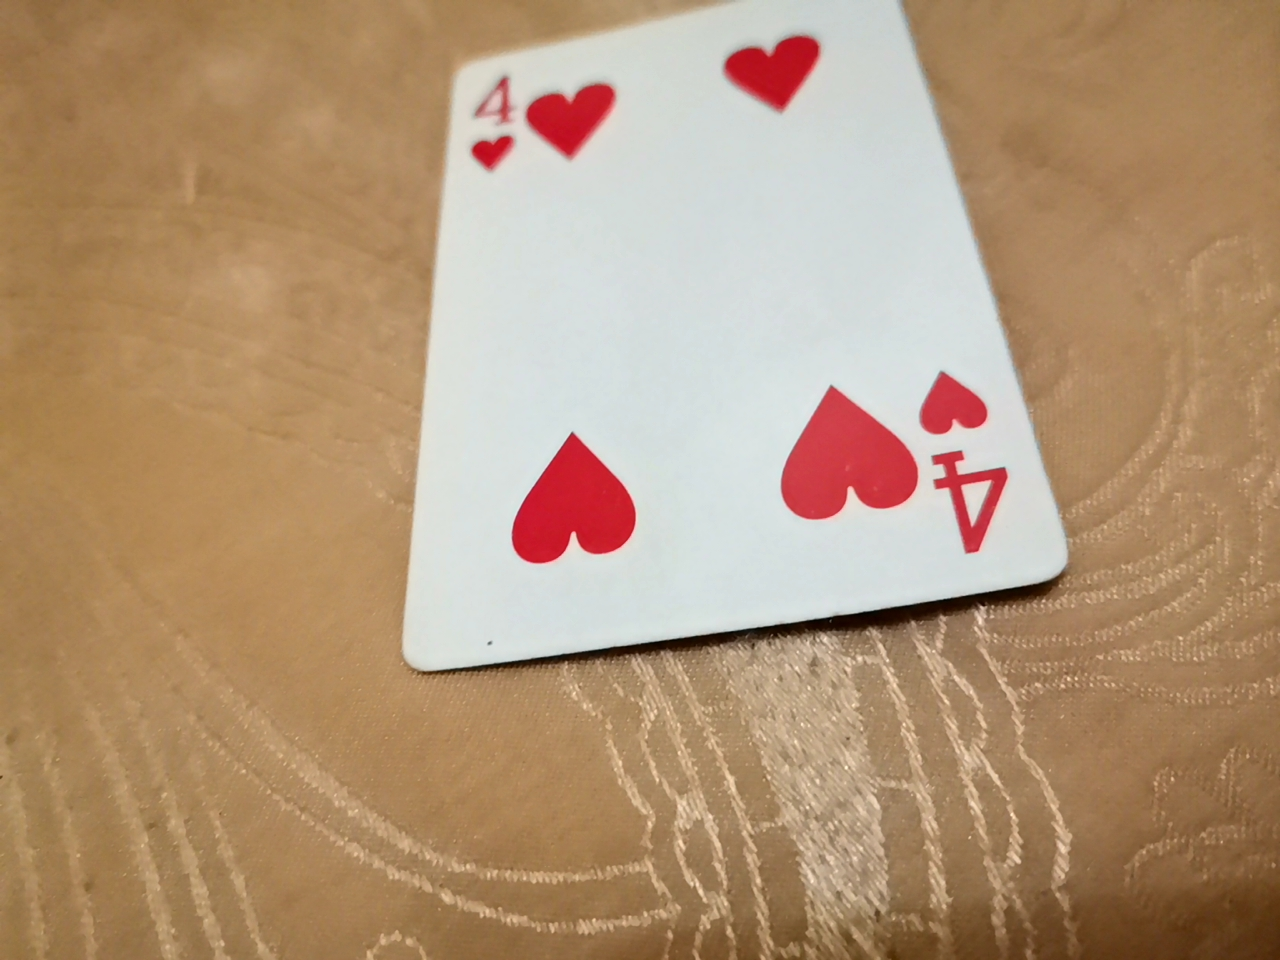hx 4: (394, 10, 1062, 687)
